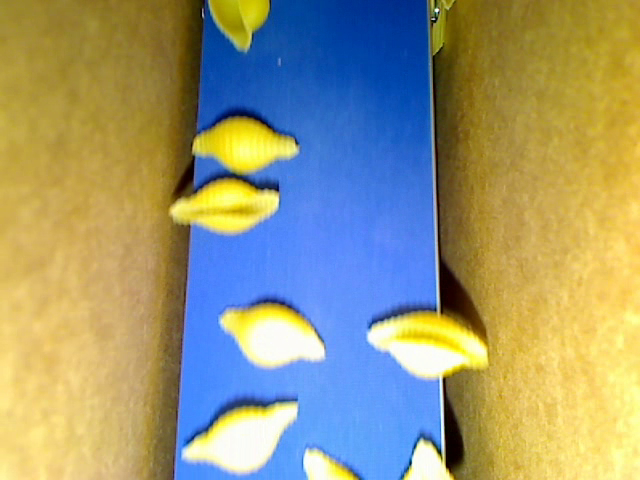penne: (430, 1, 446, 58), (439, 1, 455, 12)
shell: (179, 396, 299, 476), (363, 309, 489, 379), (219, 298, 326, 368), (167, 175, 278, 236), (188, 112, 297, 173), (207, 1, 269, 54), (398, 432, 456, 479), (300, 443, 357, 479)
